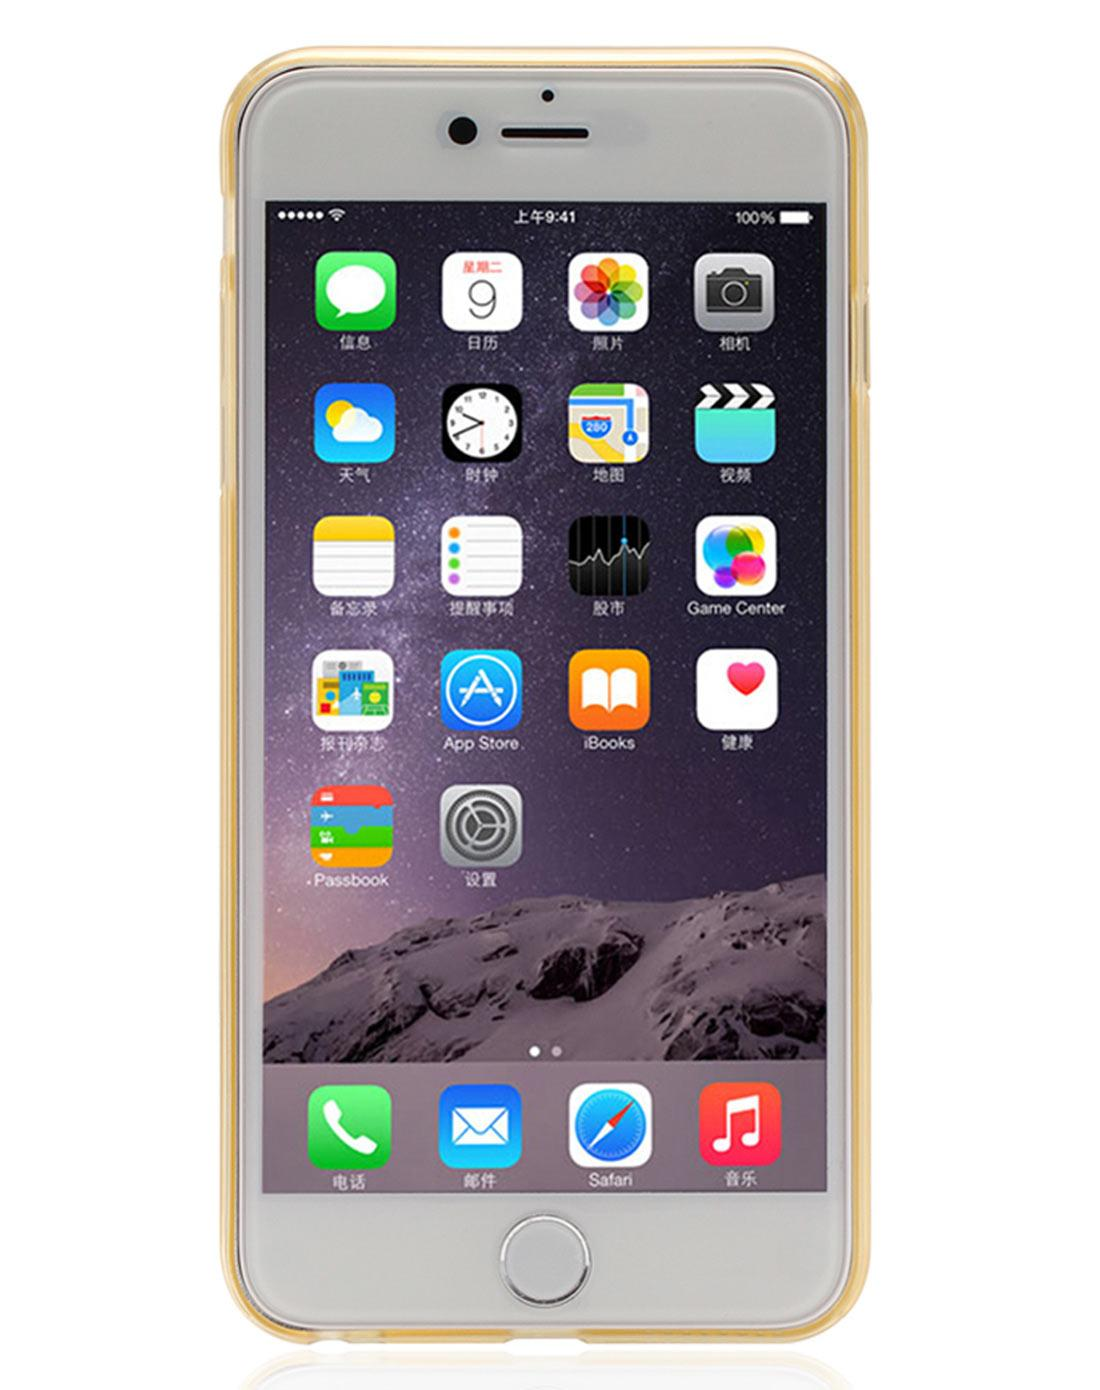phone: (214, 43, 883, 1351)
